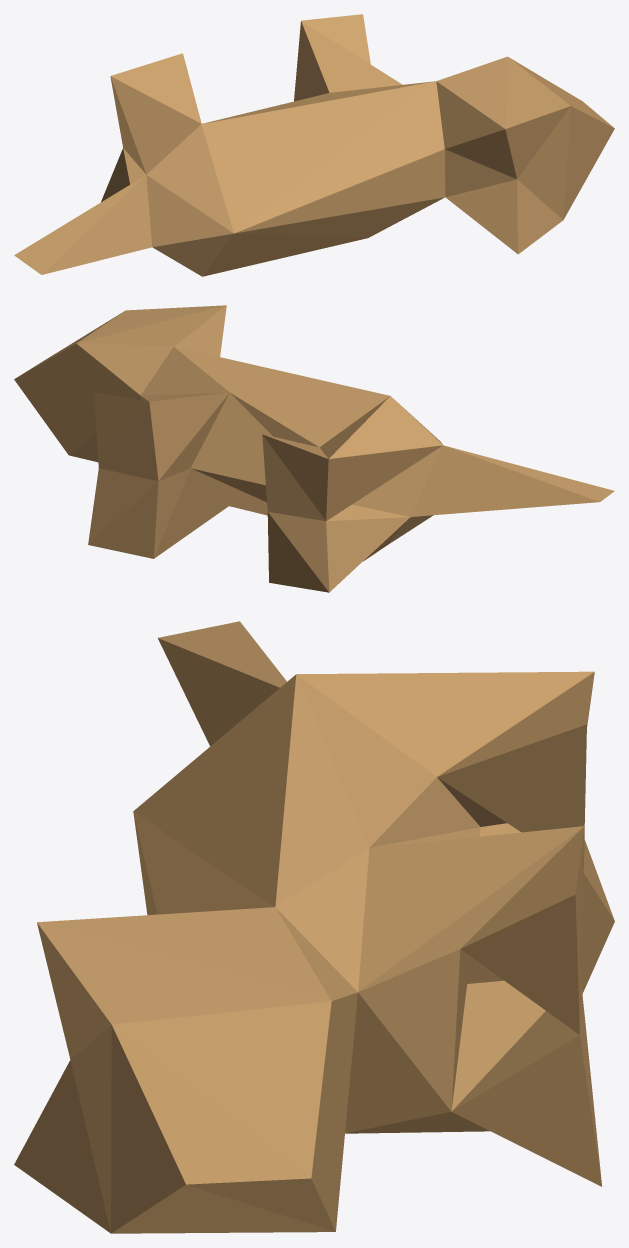
3 renders of one model, top to bottom at view 1: azimuth 30°, elevation 25°; view 2: azimuth 150°, elevation 25°; view 3: azimuth 270°, elevation 25°, orthographic. The views are drawn at different scales.
Parts seen in each view (by area): view 1: part0; view 2: part0; view 3: part0.
Boxes of the visible parts, x1,y1,x2,y2 form: part0: (14,14,614,276); part0: (14,305,614,592); part0: (14,621,614,1233).
Bounding box in the file's own units: 4.58 × 1.2 × 2.11.
